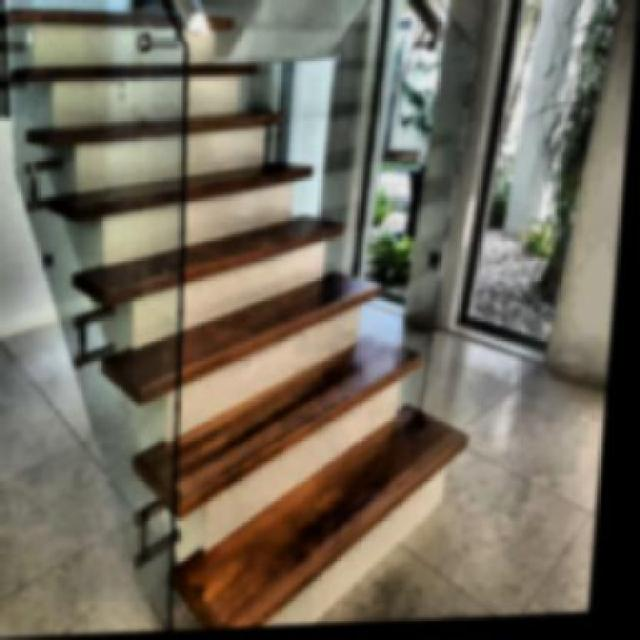stair: (0, 0, 506, 637)
